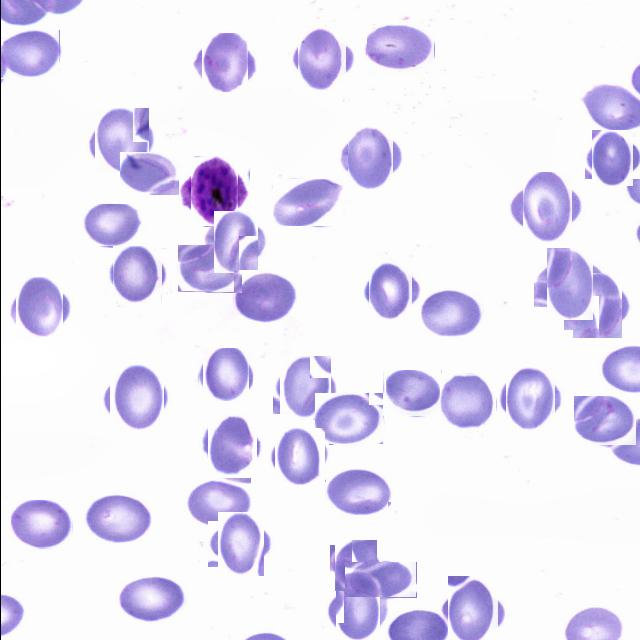red blood cell: (80, 490, 153, 546), (516, 177, 577, 237), (90, 111, 150, 171), (106, 368, 166, 428), (314, 393, 383, 445), (443, 581, 503, 640), (540, 254, 598, 314), (118, 575, 187, 625), (184, 478, 250, 530), (232, 270, 296, 323), (276, 360, 334, 418), (292, 28, 350, 86), (567, 276, 625, 334), (202, 416, 260, 474), (366, 24, 434, 73), (438, 373, 496, 430), (272, 179, 342, 226), (325, 468, 391, 516), (573, 396, 636, 446), (420, 288, 483, 338), (502, 370, 558, 426), (10, 280, 66, 336), (212, 516, 268, 572), (10, 500, 72, 549), (342, 130, 397, 184), (109, 246, 164, 300), (272, 429, 326, 484), (329, 585, 384, 639), (177, 245, 240, 292), (197, 36, 251, 90), (0, 30, 59, 79), (208, 215, 261, 269), (382, 370, 442, 417), (364, 264, 416, 316), (344, 562, 416, 598), (80, 204, 141, 246), (119, 152, 178, 195), (200, 350, 250, 400), (587, 134, 636, 182), (332, 542, 378, 590)
schizont: (183, 162, 243, 221)
